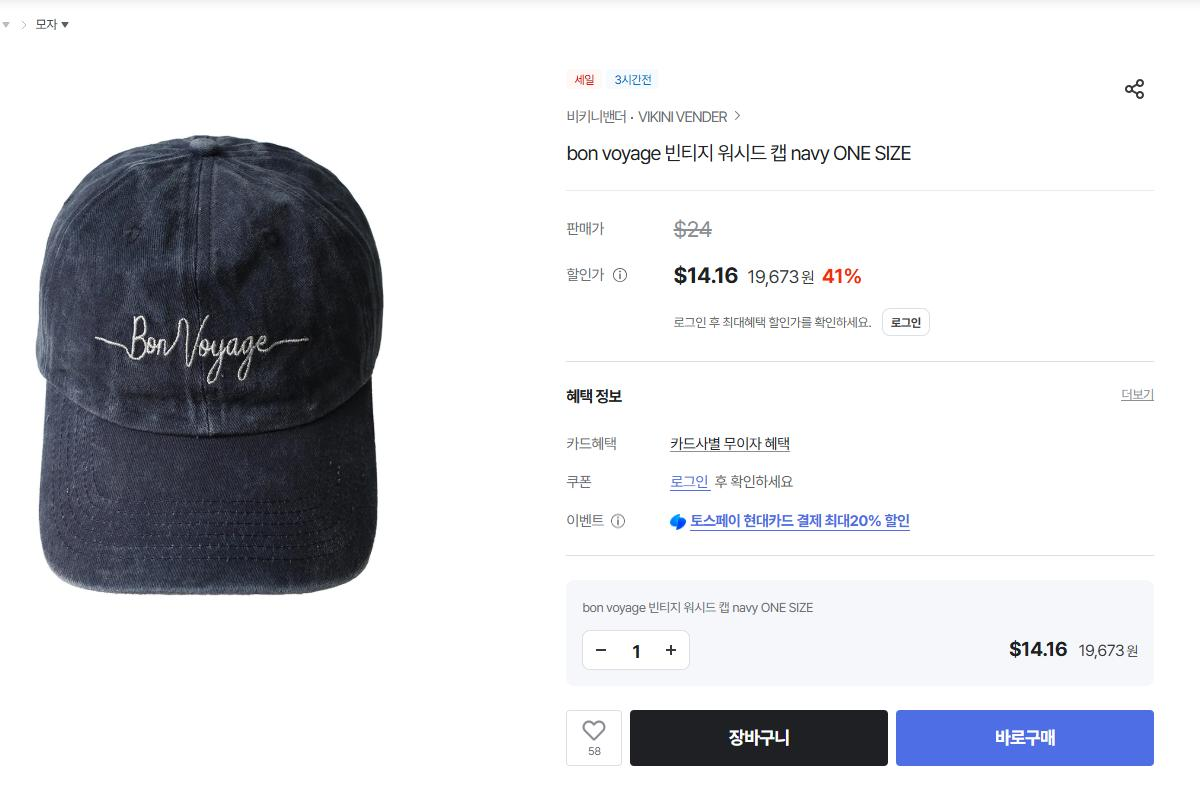button: (629, 710, 887, 766), (899, 709, 1144, 763), (684, 506, 907, 530), (581, 633, 684, 667), (566, 708, 626, 766), (666, 433, 789, 452), (1114, 73, 1156, 106), (882, 308, 929, 337), (669, 469, 710, 489), (1118, 388, 1166, 403)
